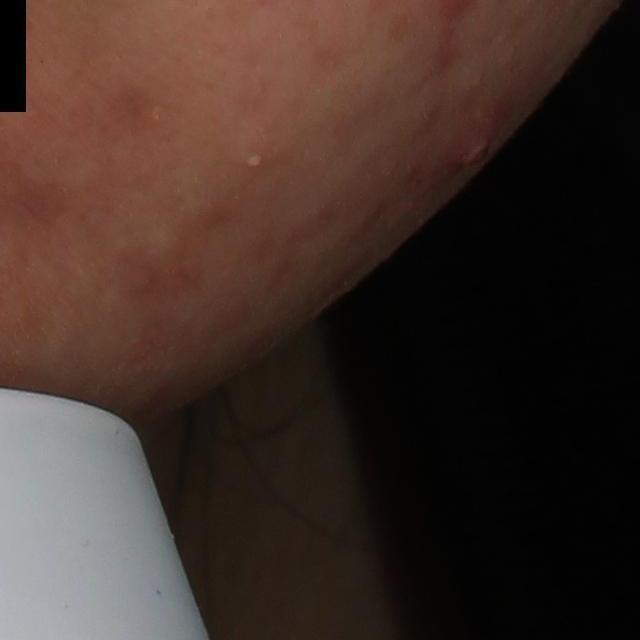pustule: (446, 109, 497, 180), (241, 151, 266, 172)
